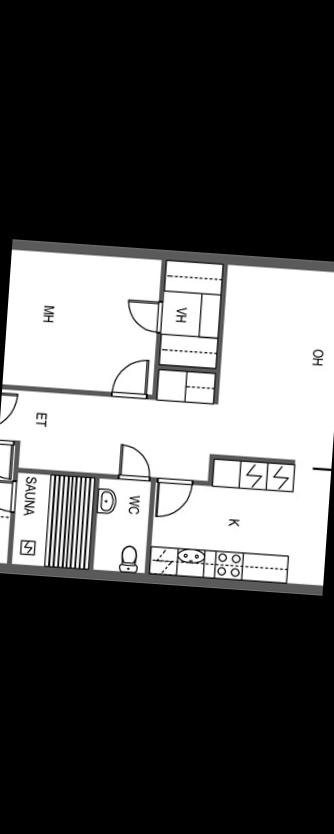door: (106, 355, 152, 403), (148, 474, 193, 521), (119, 293, 168, 334), (112, 439, 154, 486), (0, 388, 18, 435), (0, 477, 19, 515), (0, 436, 13, 482)
